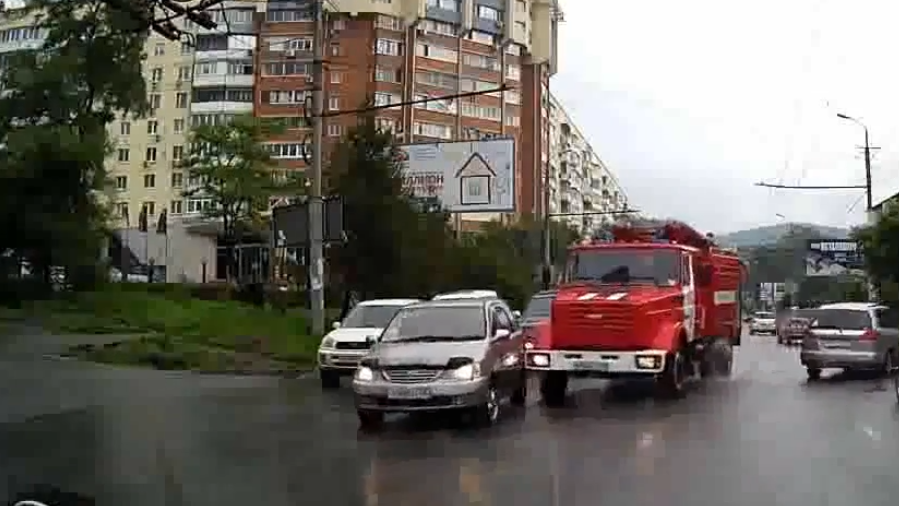fire fighting vehicle: (523, 226, 744, 404)
non emergency car: (353, 295, 521, 431), (318, 290, 424, 386), (799, 300, 897, 384)
